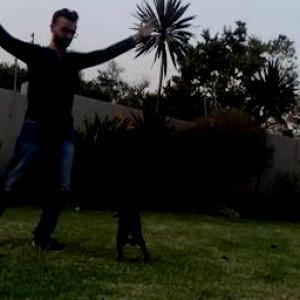takeoff: (0, 0, 148, 231)
